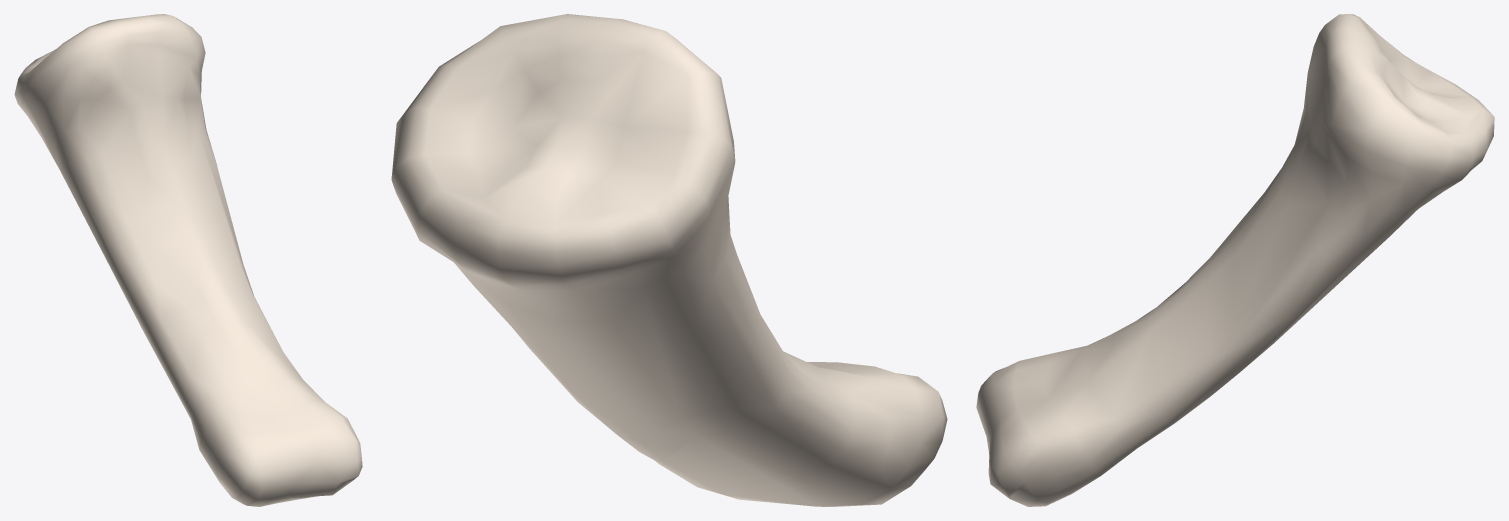
File: left_digit_4_middle.glb
The picture shows the model from 3 angles, left to right: view 1: azimuth 30°, elevation 25°; view 2: azimuth 150°, elevation 25°; view 3: azimuth 270°, elevation 25°; orthographic projection. The views are drawn at different scales.
Parts seen in each view (by area): view 1: Middle phalanx of 4th finger.r; view 2: Middle phalanx of 4th finger.r; view 3: Middle phalanx of 4th finger.r.
Boxes of the visible parts, <box> form: Middle phalanx of 4th finger.r: <box>14,14,362,506</box>; Middle phalanx of 4th finger.r: <box>391,14,947,506</box>; Middle phalanx of 4th finger.r: <box>976,14,1494,506</box>.
Size of the model in its own units: 0.00846 by 0.018 by 0.0192.
